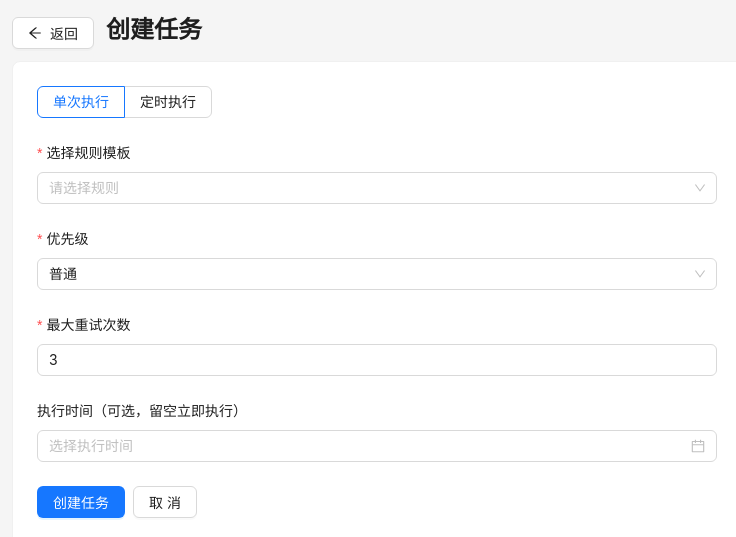
TaskCreate › only shows approved rules in the dropdown
Expected: the button "单次执行" is shown, [53, 92, 109, 110]
Click the dropdown labelled "选择规则模板".
click(368, 188)  # box [49, 172, 687, 202]
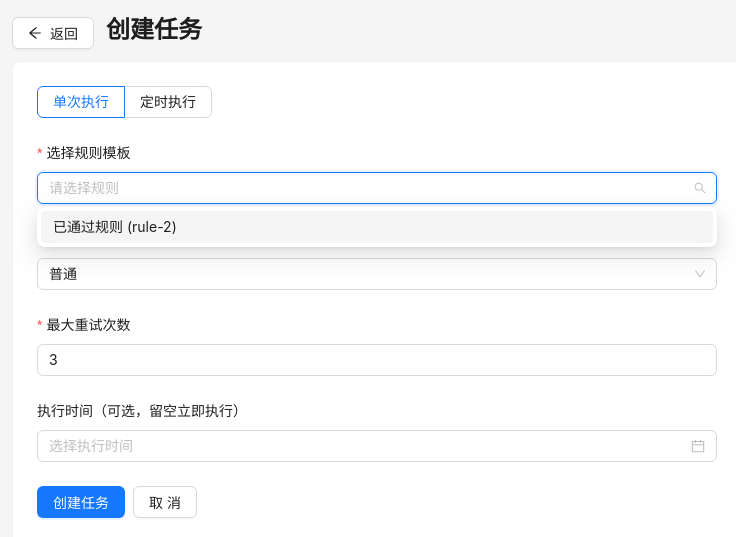
Result: the text "已通过规则 (rule-2)" is shown at [53, 218, 177, 235]
